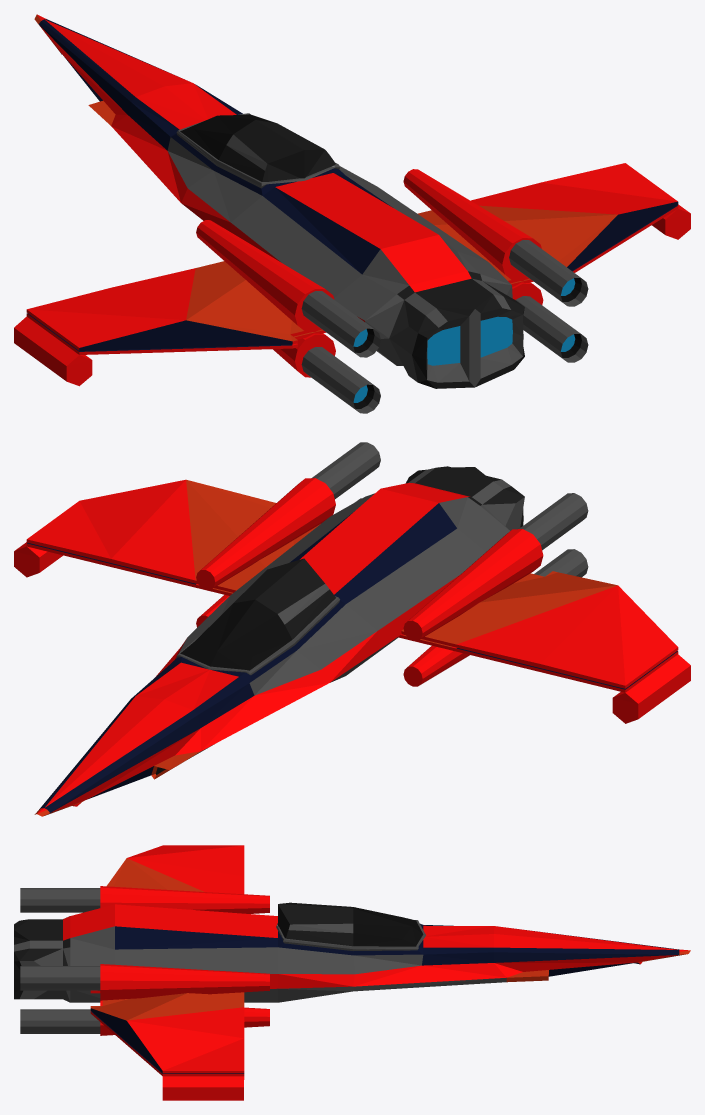
Rendered from PlayerShipX-WingFrame0.obj.
3 views of the same model, one above another, from view 1: azimuth 30°, elevation 25°; view 2: azimuth 150°, elevation 25°; view 3: azimuth 270°, elevation 25° (orthographic). The views are drawn at different scales.
Parts seen in each view (by area): view 1: Cube_Cube.002, Left_Upper_Wing_Cylinder.003, Right_Upper_Wing_Cylinder.002, Left_Lower_Wing_Cylinder.004, Righjt_Lower_Wing_Cylinder.001; view 2: Cube_Cube.002, Left_Upper_Wing_Cylinder.003, Right_Upper_Wing_Cylinder.002, Left_Lower_Wing_Cylinder.004, Righjt_Lower_Wing_Cylinder.001; view 3: Cube_Cube.002, Right_Upper_Wing_Cylinder.002, Left_Upper_Wing_Cylinder.003, Righjt_Lower_Wing_Cylinder.001.
Boxes of the visible parts, bbox=[...] form: Cube_Cube.002: bbox=[34, 14, 524, 388]; Left_Upper_Wing_Cylinder.003: bbox=[26, 220, 380, 357]; Right_Upper_Wing_Cylinder.002: bbox=[403, 163, 678, 306]; Left_Lower_Wing_Cylinder.004: bbox=[14, 313, 380, 413]; Righjt_Lower_Wing_Cylinder.001: bbox=[510, 204, 690, 362]; Cube_Cube.002: bbox=[34, 466, 524, 816]; Left_Upper_Wing_Cylinder.003: bbox=[401, 493, 678, 688]; Right_Upper_Wing_Cylinder.002: bbox=[26, 442, 380, 592]; Left_Lower_Wing_Cylinder.004: bbox=[397, 549, 690, 723]; Righjt_Lower_Wing_Cylinder.001: bbox=[14, 498, 361, 627]; Cube_Cube.002: bbox=[14, 902, 690, 1002]; Right_Upper_Wing_Cylinder.002: bbox=[20, 964, 269, 1073]; Left_Upper_Wing_Cylinder.003: bbox=[20, 845, 269, 913]; Righjt_Lower_Wing_Cylinder.001: bbox=[20, 990, 269, 1100].
Bounding box in the file's own units: 14.99 × 2.71 × 18.22.
